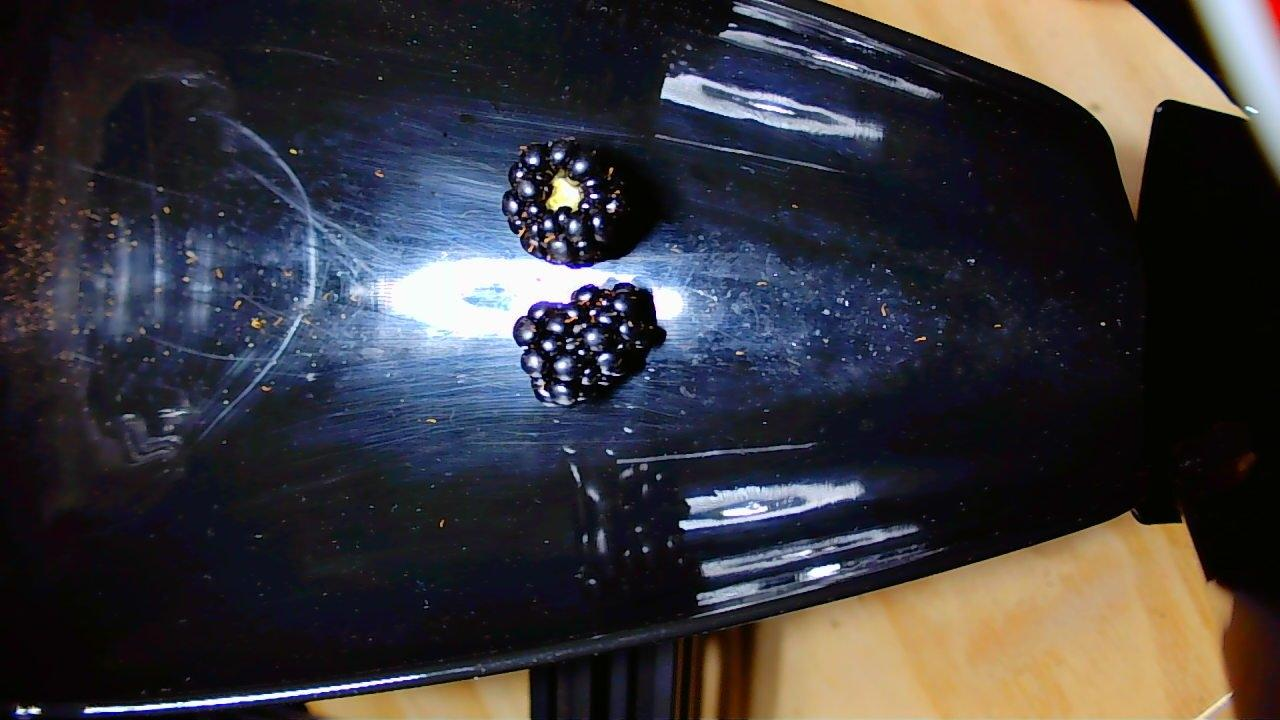berry: (515, 282, 661, 404), (504, 138, 620, 260)
